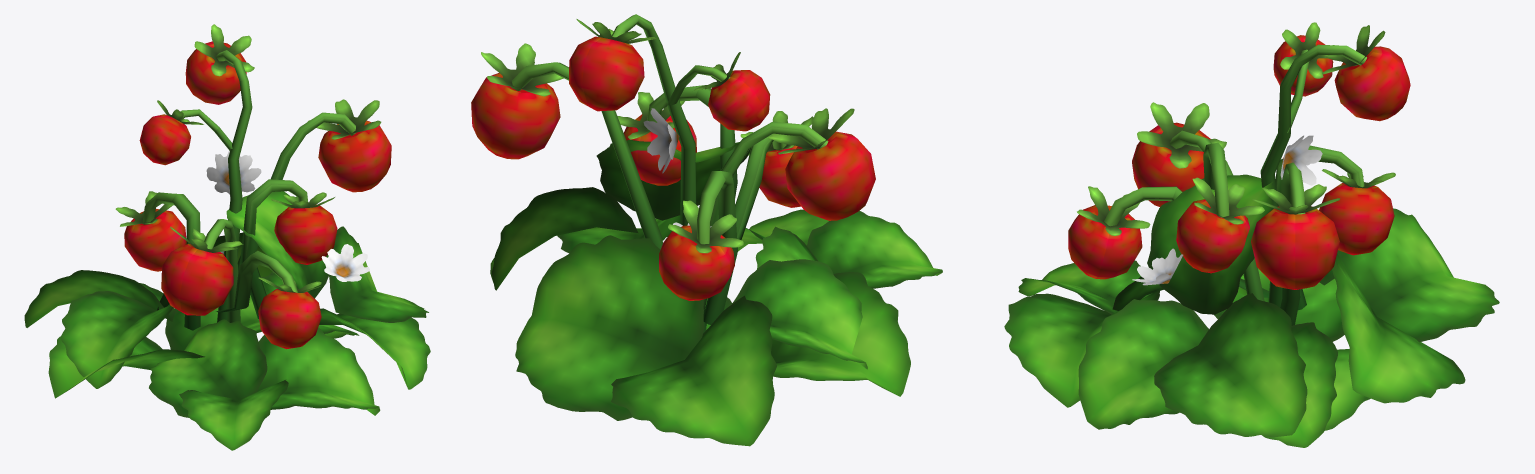
File: caomei.FBX
The picture shows the model from 3 angles, left to right: view 1: azimuth 30°, elevation 25°; view 2: azimuth 150°, elevation 25°; view 3: azimuth 270°, elevation 25°; orthographic projection. The views are drawn at different scales.
Visible parts, largest first — view 1: Object001; view 2: Object001; view 3: Object001.
Boxes of the visible parts, x1,y1,x2,y2 form: Object001: (24,24,430,450); Object001: (471,14,942,446); Object001: (1004,22,1499,447).
Size of the model in its own units: 27.66 by 23.35 by 29.17.
